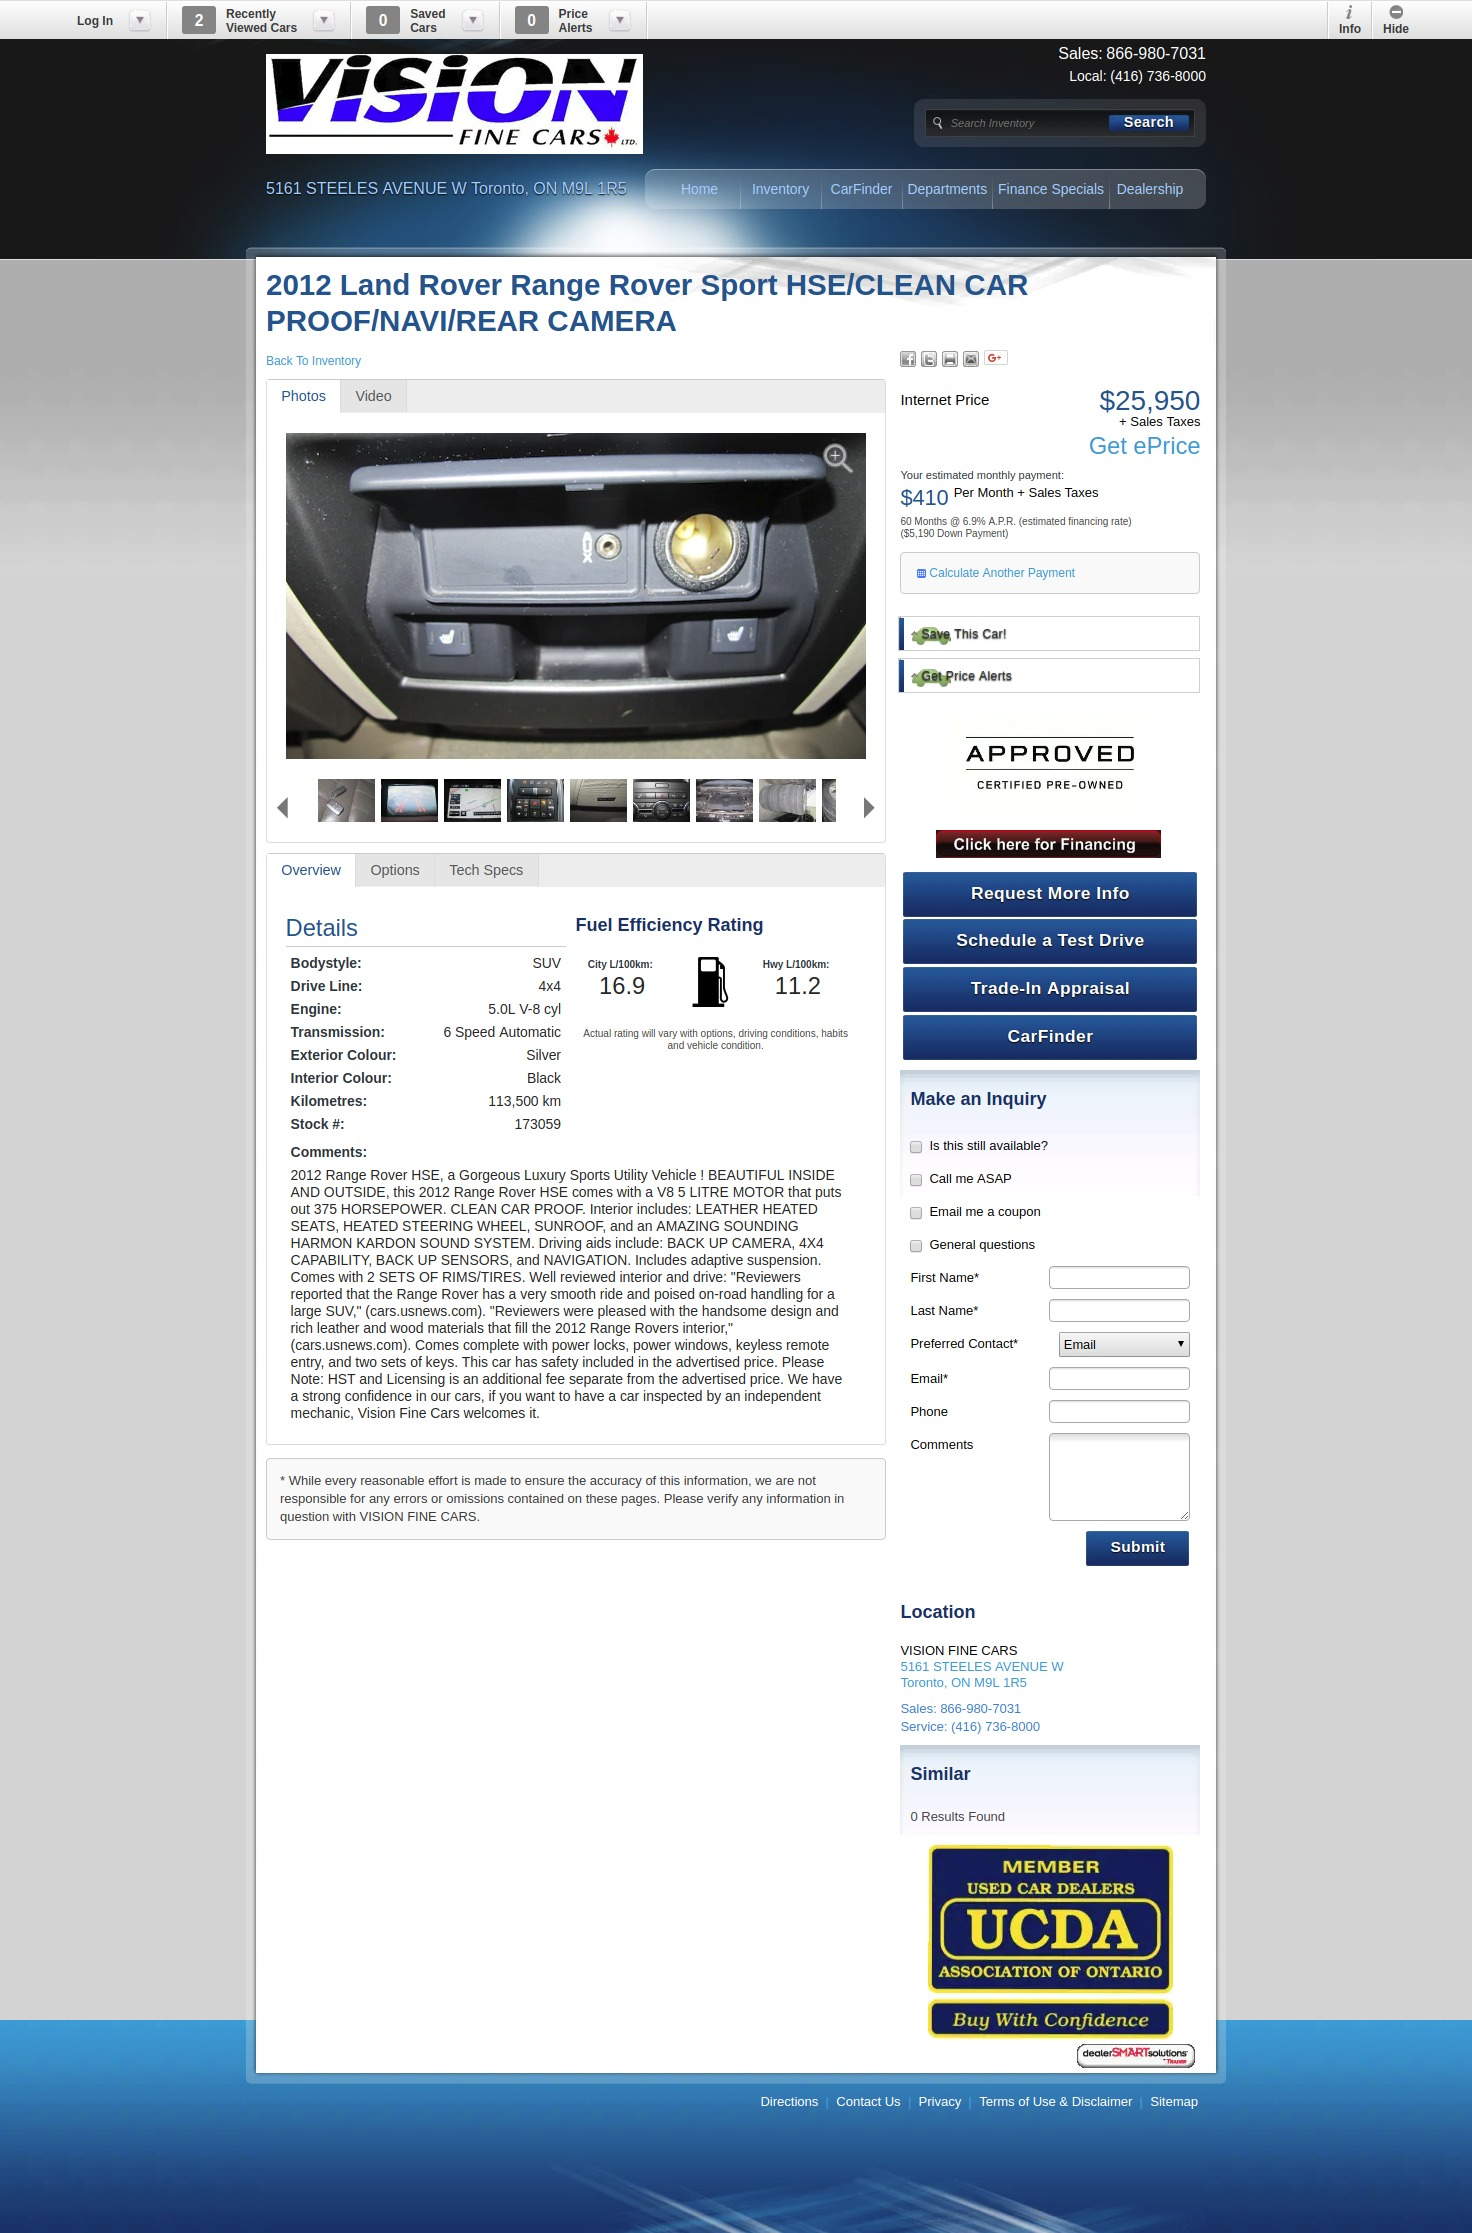car: (862, 795, 876, 818)
